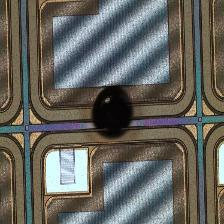PARTICLE: (85, 85, 141, 141)
